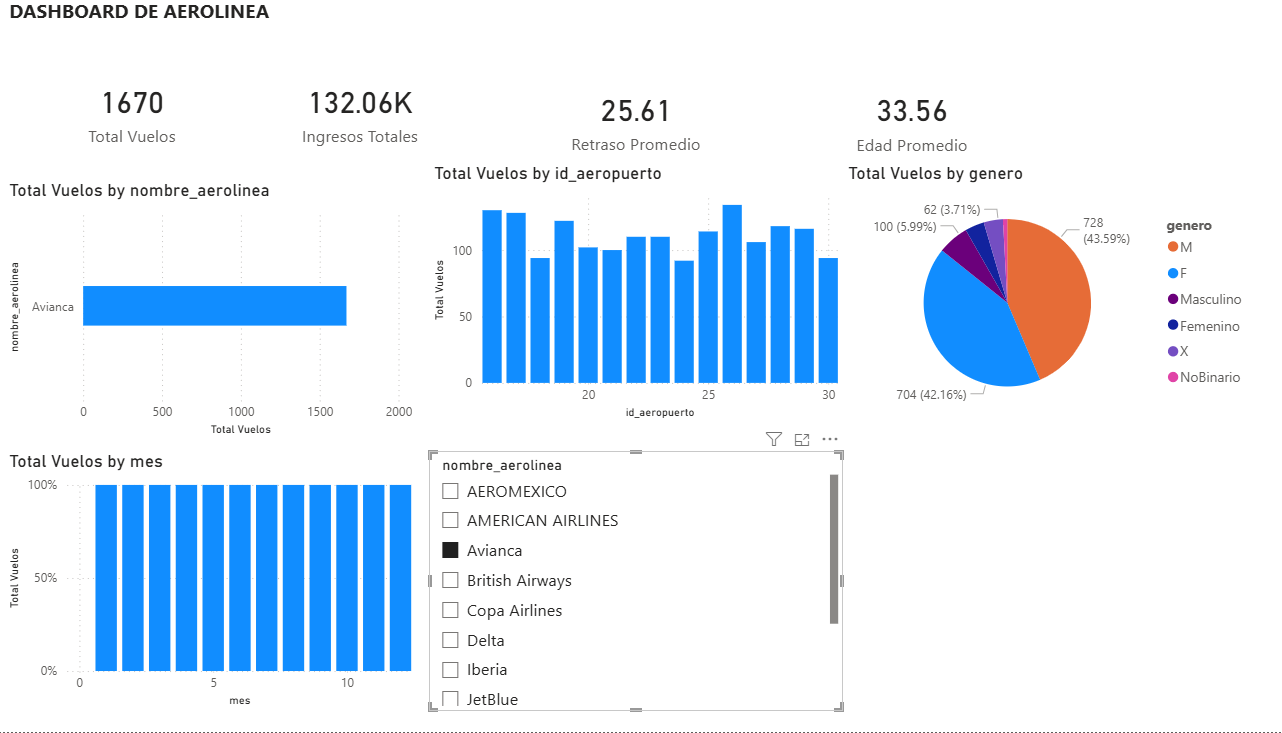

Layout of this report page (visuals, bound fields, positions):
{"tool":"powerbi","page":{"name":"Page 1","canvas":[1280,720],"ordinal":0},"visuals":[{"type":"textbox","box":[0,0,1280,76.3],"z":0},{"type":"card","fields":{"Values":["Dim_Aerolinea.Retraso Promedio"]},"box":[0,76.3,156.7,149.4],"z":1000},{"type":"card","fields":{"Values":["Dim_Aerolinea.Estado Retraso"]},"box":[156.7,76.3,156.7,149.4],"z":1001},{"type":"card","fields":{"Values":["Dim_Aerolinea.Edad Promedio"]},"box":[0,225.7,156.7,108.7],"z":1002},{"type":"card","fields":{"Values":["Dim_Aerolinea.Total Maletas"]},"box":[0,334.4,156.7,149.4],"z":1003},{"type":"card","fields":{"Values":["Dim_Aerolinea.Total Vuelos"]},"box":[156.7,334.4,156.7,149.4],"z":1004},{"type":"card","fields":{"Values":["Dim_Aerolinea.Ingresos Totales"]},"box":[157.8,225.7,155.7,108.7],"z":1005},{"type":"barChart","fields":{"Category":["Dim_Aerolinea.nombre_aerolinea"],"Y":["Dim_Aerolinea.Total Vuelos"]},"box":[314.5,76.3,503.6,404.4],"z":1006},{"type":"donutChart","fields":{"Category":["Dim_Pasajero.genero"],"Y":["Dim_Aerolinea.Total Vuelos"]},"box":[0,480.7,403.3,239.3],"z":1007},{"type":"hundredPercentStackedColumnChart","fields":{"Y":["Dim_Aerolinea.Total Vuelos"],"Category":["Dim_Tiempo.nombre_mes"]},"box":[818.2,74.2,461.8,406.5],"z":1008},{"type":"slicer","fields":{"Values":["Dim_Aerolinea.nombre_aerolinea"]},"box":[403.3,480.7,414.8,239.3],"z":1009},{"type":"slicer","fields":{"Values":["Dim_Pasajero.genero"]},"box":[818.2,480.7,461.8,239.3],"z":1010}]}

Visuals, with their boxes in screenshot pixels (x1, y1, x2, y2), scaled from the page's 1280x720 canvas onto the 1282x733 screenshot:
textbox: box(0, 0, 1281, 78)
card - Dim_Aerolinea.Retraso Promedio: box(0, 78, 157, 230)
card - Dim_Aerolinea.Estado Retraso: box(157, 78, 314, 230)
card - Dim_Aerolinea.Edad Promedio: box(0, 230, 157, 340)
card - Dim_Aerolinea.Total Maletas: box(0, 340, 157, 493)
card - Dim_Aerolinea.Total Vuelos: box(157, 340, 314, 493)
card - Dim_Aerolinea.Ingresos Totales: box(158, 230, 314, 340)
barChart - Dim_Aerolinea.nombre_aerolinea x Dim_Aerolinea.Total Vuelos: box(315, 78, 819, 489)
donutChart - Dim_Pasajero.genero x Dim_Aerolinea.Total Vuelos: box(0, 489, 404, 732)
hundredPercentStackedColumnChart - Dim_Aerolinea.Total Vuelos x Dim_Tiempo.nombre_mes: box(819, 76, 1281, 489)
slicer - Dim_Aerolinea.nombre_aerolinea: box(404, 489, 819, 732)
slicer - Dim_Pasajero.genero: box(819, 489, 1281, 732)
